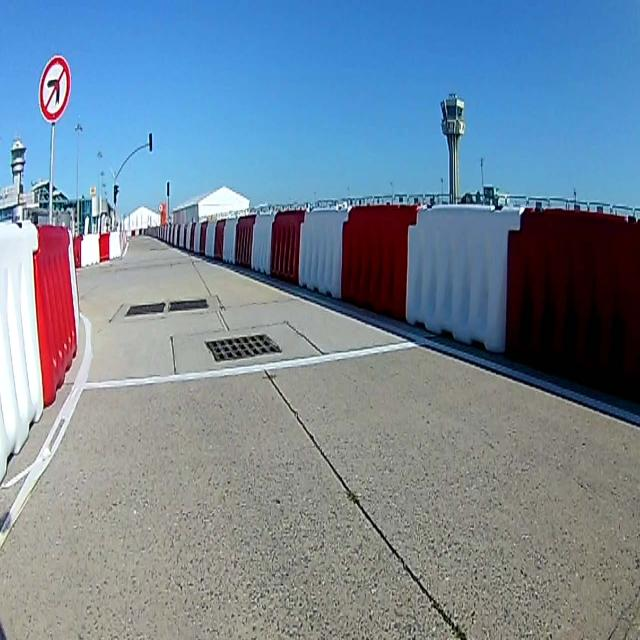soladonulmez: (38, 55, 70, 119)
